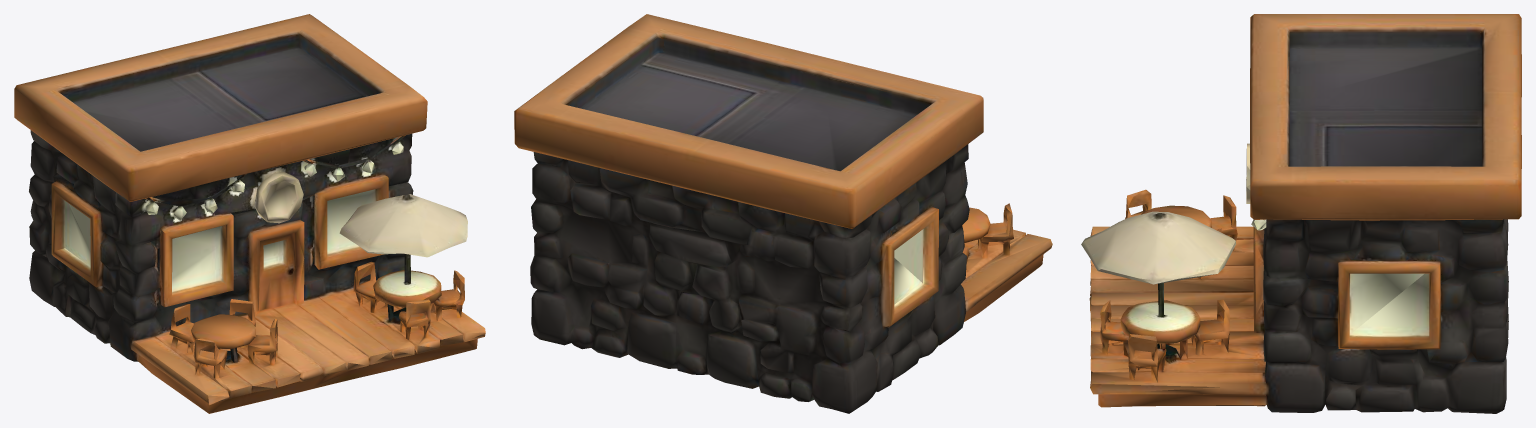
Rendered from shop-stone.glb.
The picture shows the model from 3 angles, left to right: view 1: azimuth 30°, elevation 25°; view 2: azimuth 150°, elevation 25°; view 3: azimuth 270°, elevation 25°; orthographic projection. The views are drawn at different scales.
Visible parts, largest first — view 1: prop; view 2: prop; view 3: prop.
Part boxes in pixels (left/top/right/bottom): prop: left=14, top=14, right=485, bottom=413; prop: left=514, top=14, right=1052, bottom=413; prop: left=1081, top=14, right=1521, bottom=413.
Size of the model in its own units: 0.8959 by 0.5889 by 0.9823.
1 material, 1 textured.
